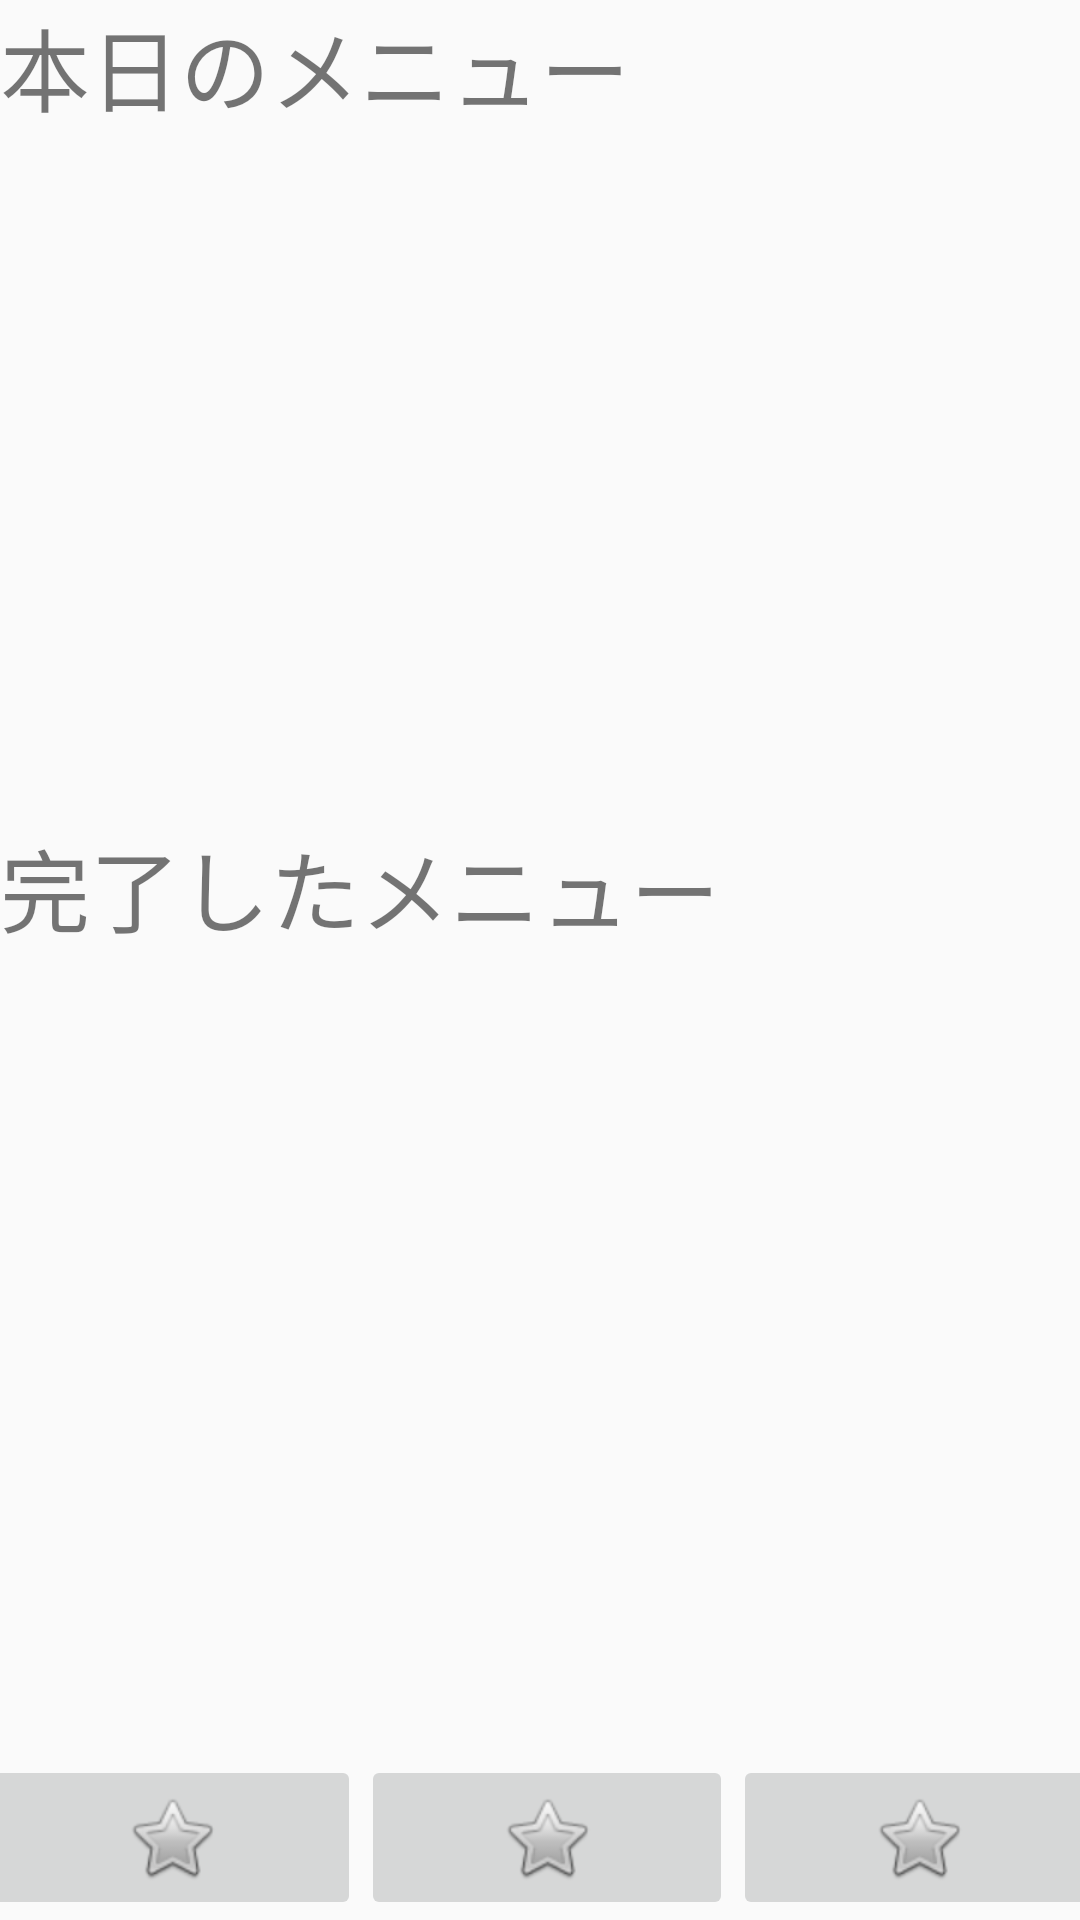

Where icons sit on this 1080x1920 app screen, as [left=x1, top=y1, right=x2, bottom=y2]:
star: [left=0, top=1773, right=349, bottom=1902], [left=373, top=1773, right=721, bottom=1902], [left=745, top=1773, right=1080, bottom=1902]
